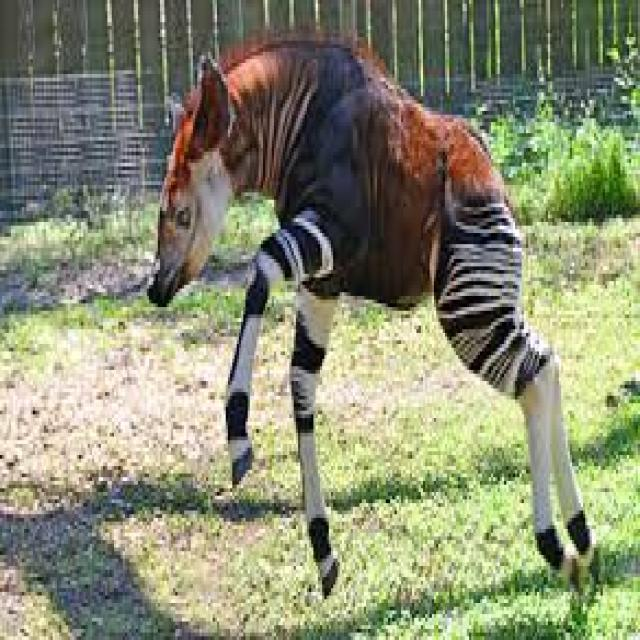Okapi: (139, 28, 606, 596)
